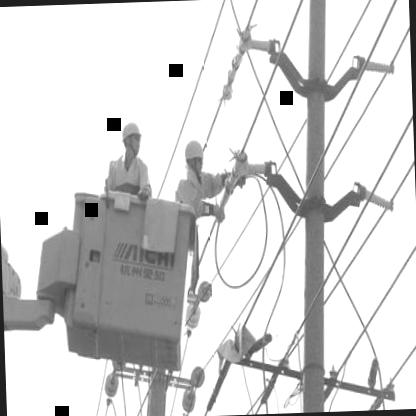helmet: (122, 116, 143, 160), (182, 136, 206, 174)
